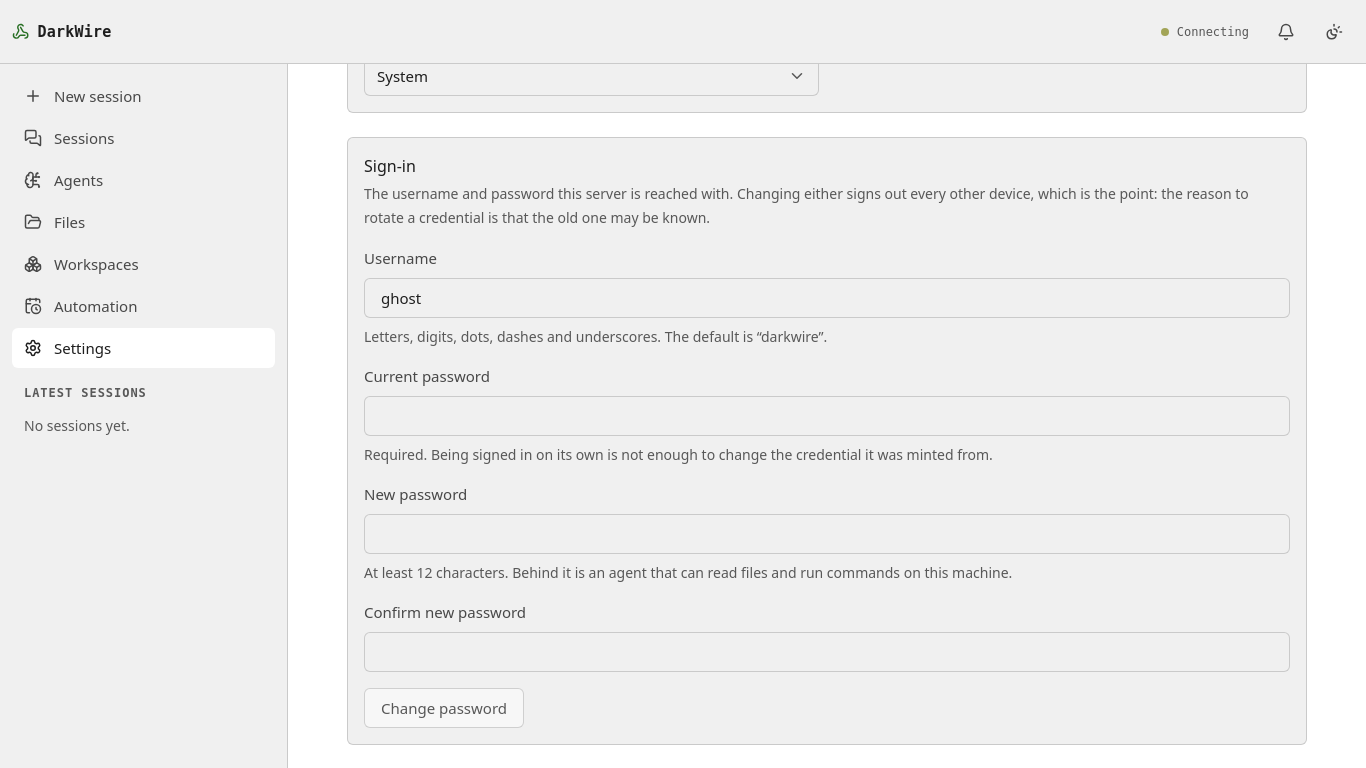
Scenario: the account panel › refuses two new passwords that differ, without asking the server
(page scrolled)
In the password field labelled "Current password": (827, 416) [364,396,1290,436], type "the old password"
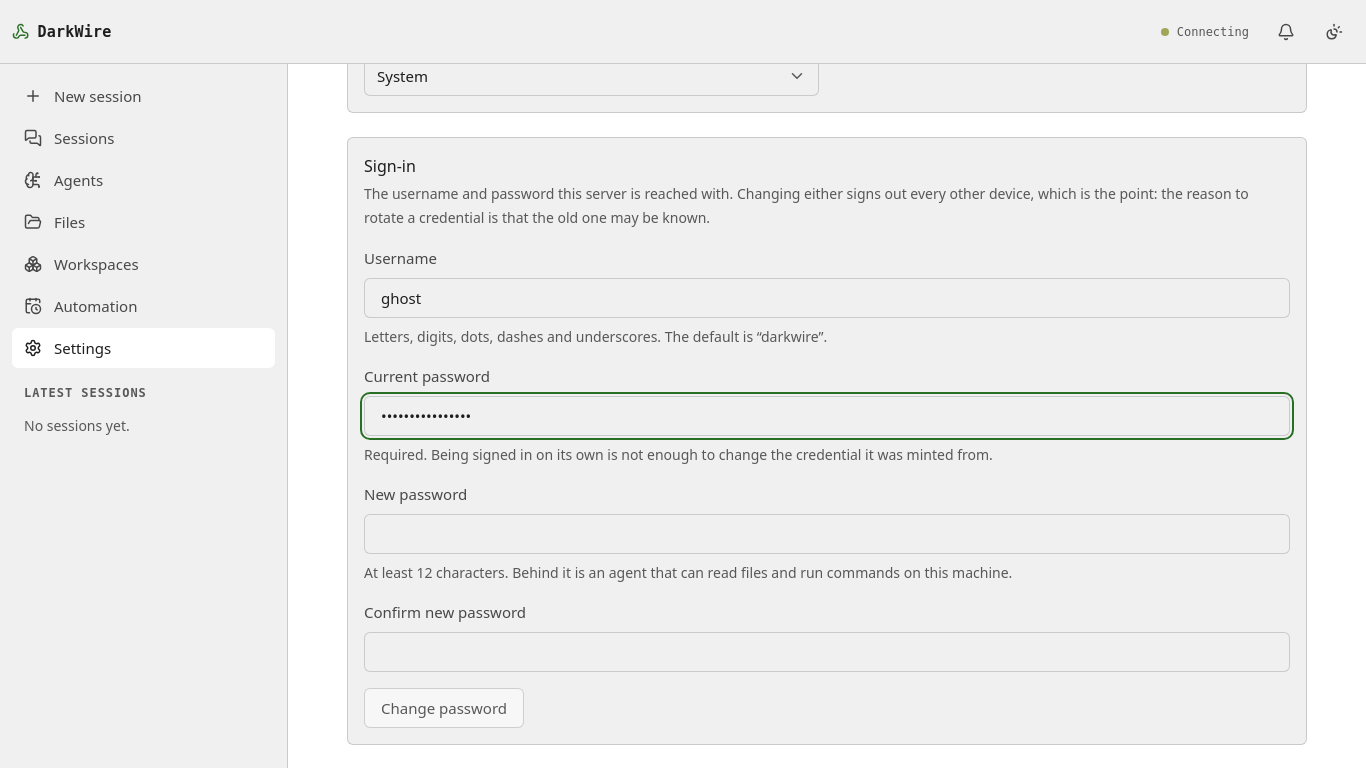
In the password field labelled "New password": (827, 534) [364,514,1290,554], type "the new password"
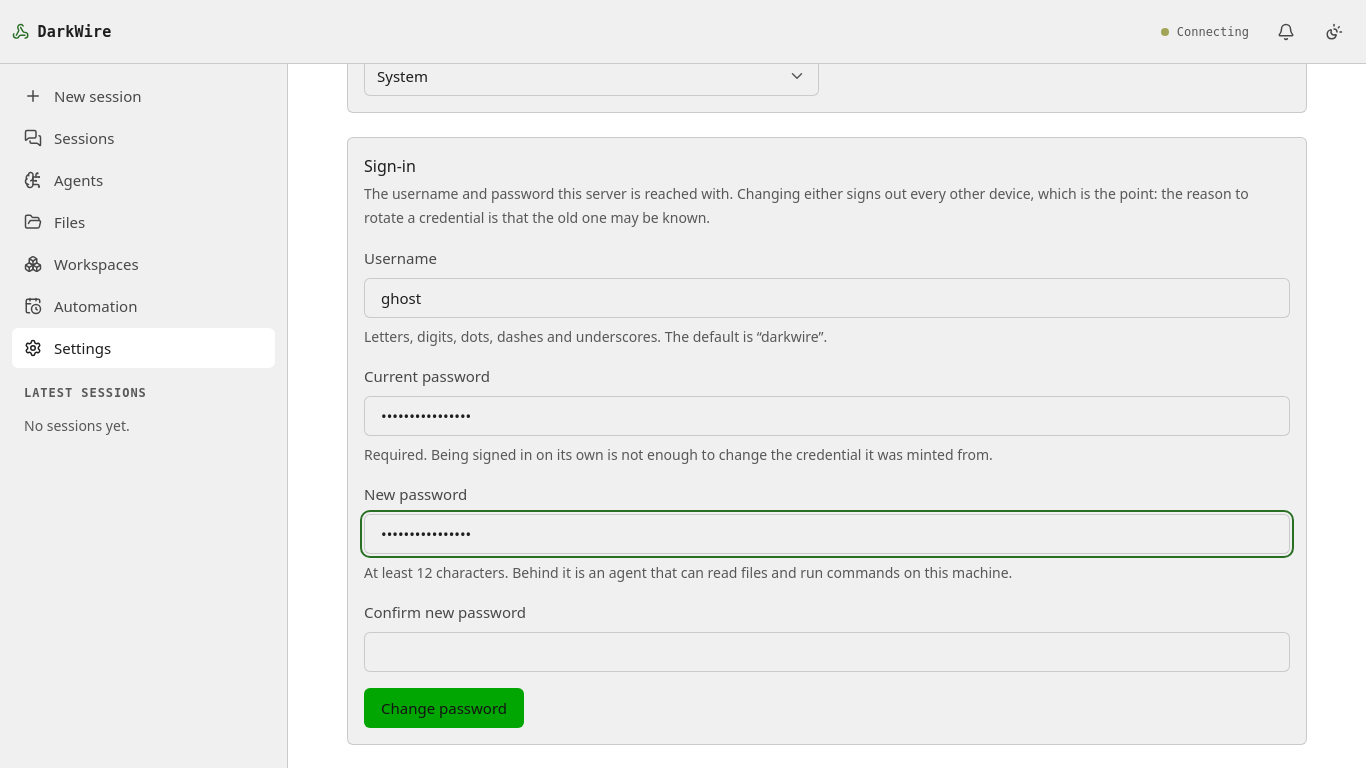
In the password field labelled "Confirm new password": (827, 652) [364,632,1290,672], type "a different one"
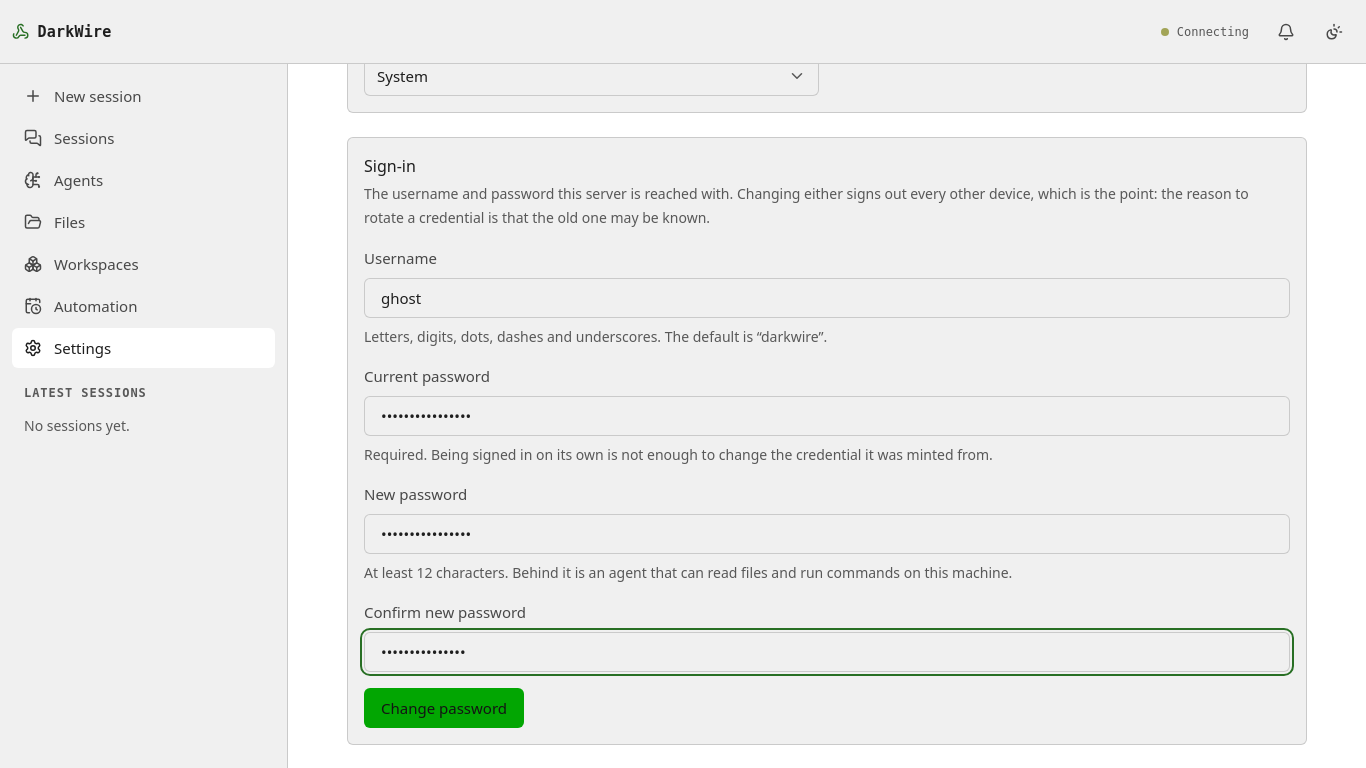
Click the button "Change password": (444, 708) [364,688,524,728]
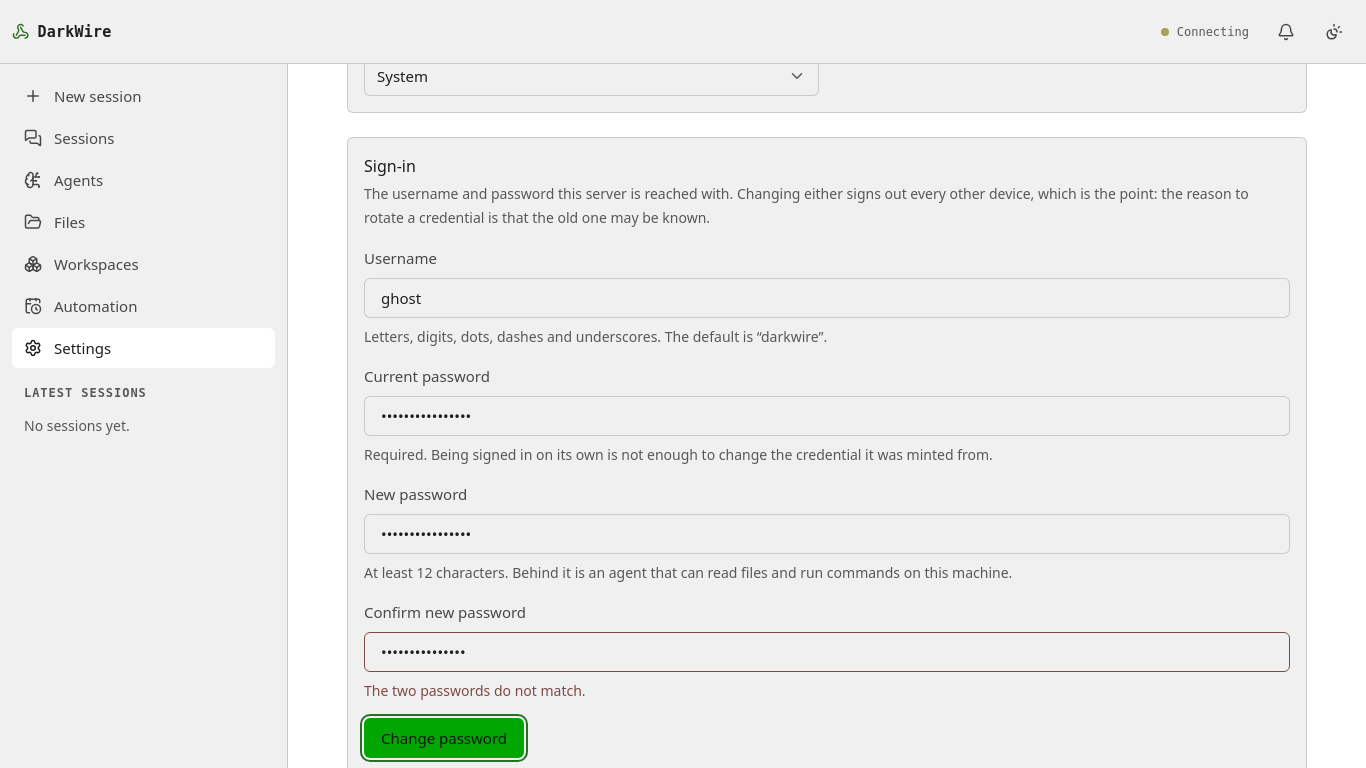
Result: the message "The two passwords do not match." is shown at [364,681,586,700]
